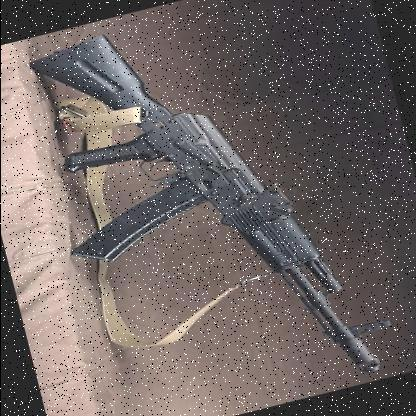rifle: (23, 0, 389, 416)
